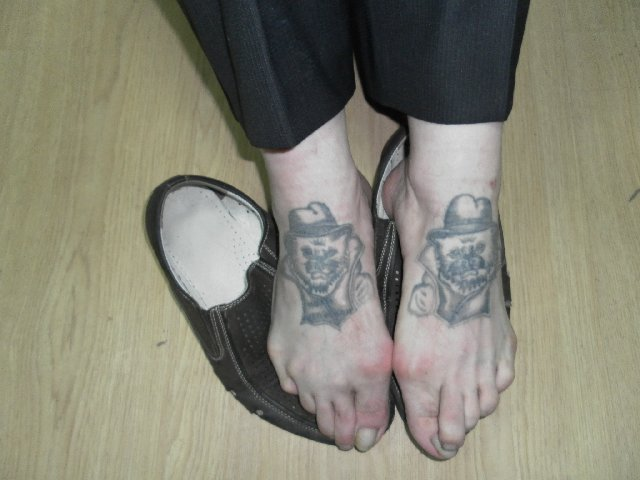tatu8_kot: (402, 188, 513, 330), (274, 199, 379, 337)
